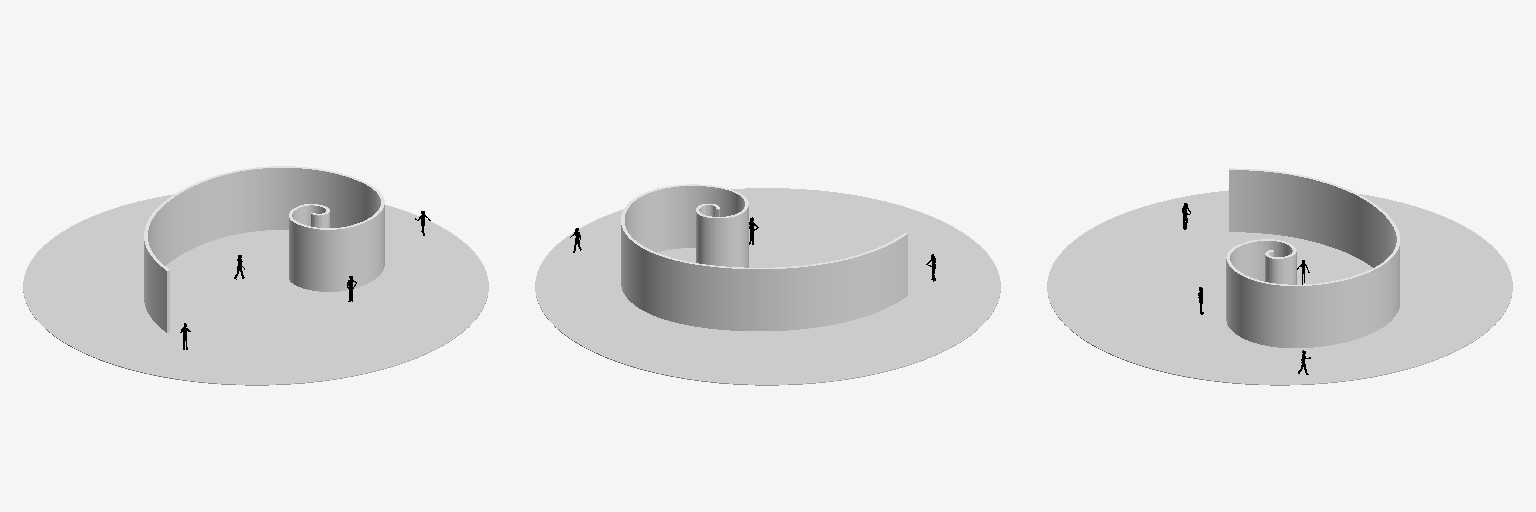
File: sculpture4.obj
3 renders of one model, left to right at view 1: azimuth 30°, elevation 25°; view 2: azimuth 150°, elevation 25°; view 3: azimuth 270°, elevation 25°, orthographic.
Visible parts, largest first — view 1: pCylinder9, polySurface9; view 2: pCylinder9, polySurface9; view 3: pCylinder9, polySurface9.
Part boxes in pixels (x1,y1,x2,y2): pCylinder9: (23,194,488,385); polySurface9: (144,166,384,332); pCylinder9: (535,188,1000,385); polySurface9: (621,184,907,330); pCylinder9: (1047,190,1512,385); polySurface9: (1226,168,1399,347).
Bounding box in the file's own units: 27.09 × 4.06 × 27.09.